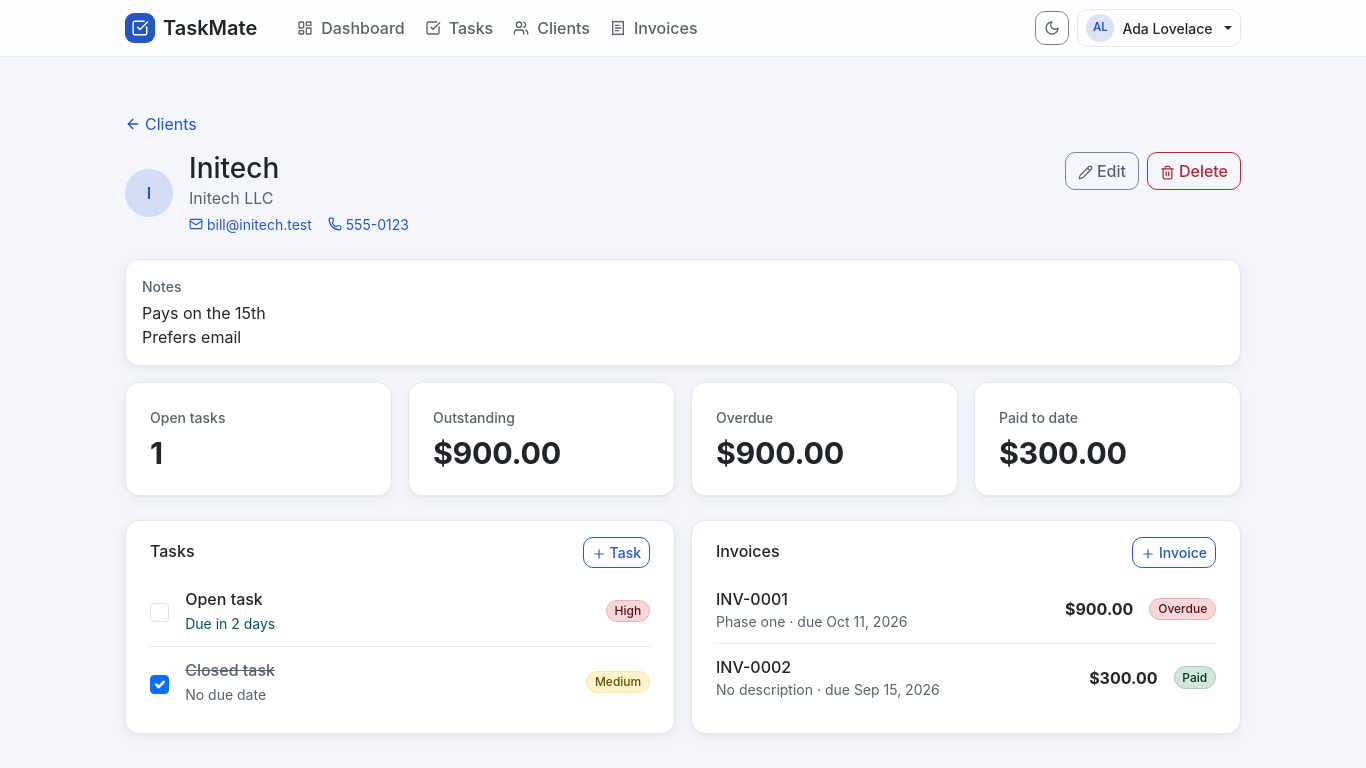
Scenario: Client detail page › adds a task already linked to this client
Click the button "Task".
click(616, 552)  # box [583,536,650,568]
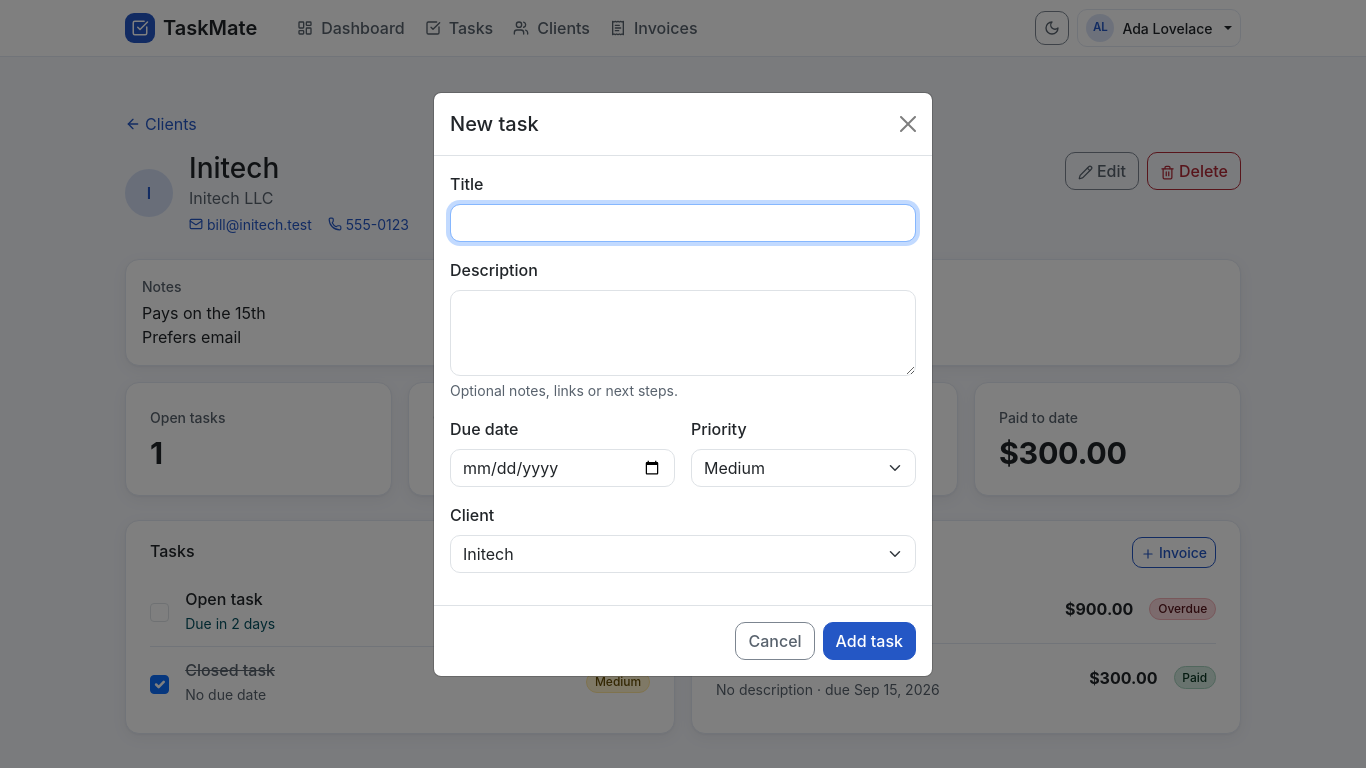
Type "Follow up" into the field labelled "Title".
click(683, 222); type("Follow up")  # box [450,204,916,242]
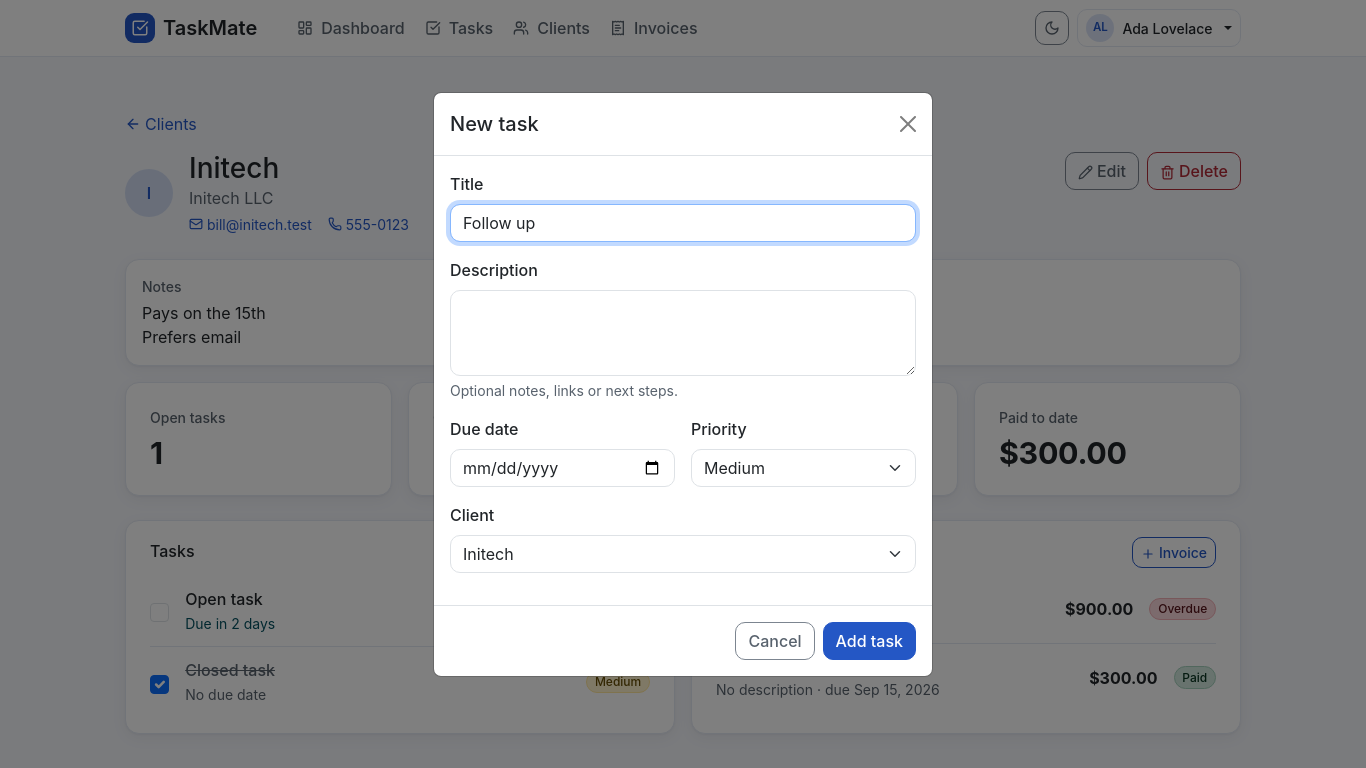
Click the button "Add task".
click(869, 640)  # box [823,622,916,660]
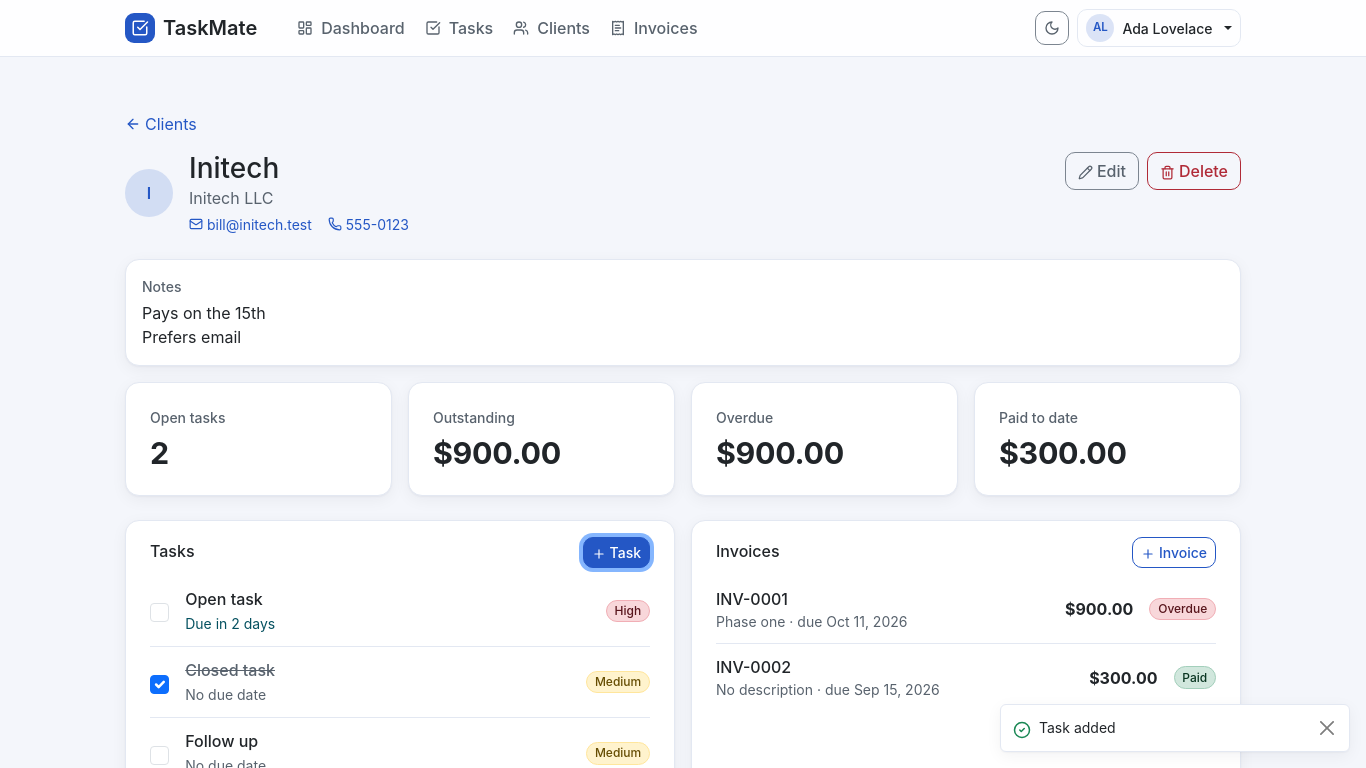
Expected: the text "Follow up" is shown, [185,732,258,752]
